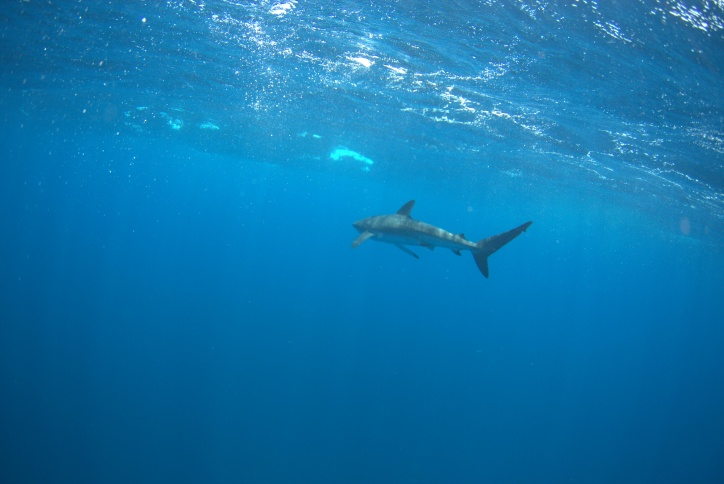Sedoso: (328, 188, 546, 292)
